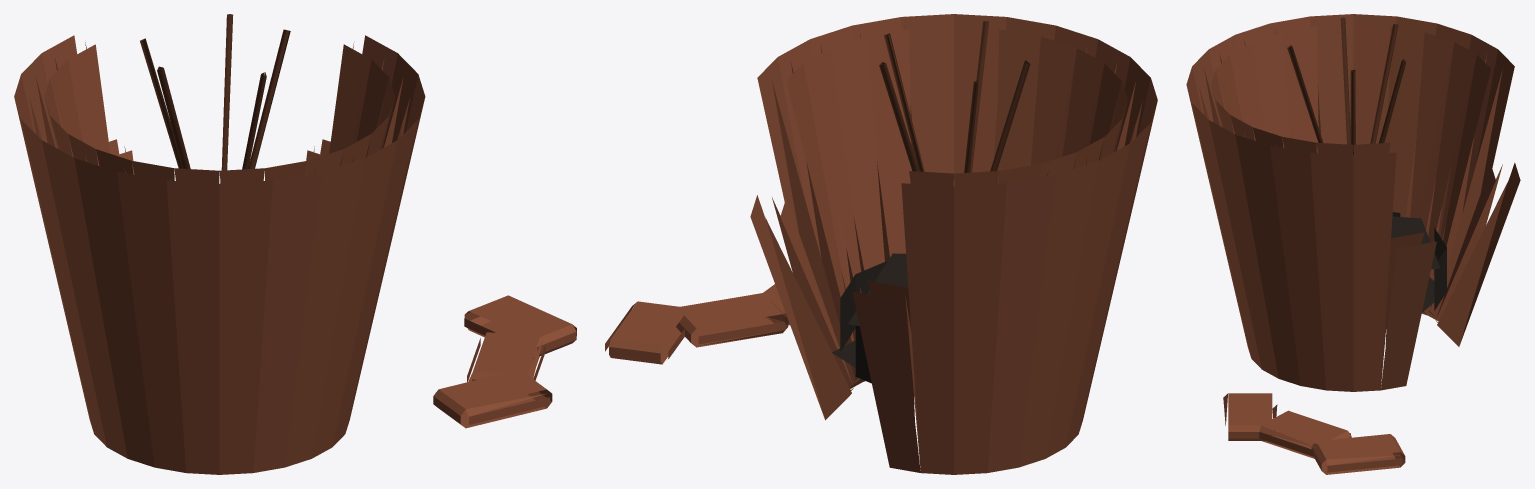
The model's file is BrokenCourtyardPlanter.glb.
3 views of the same model, side by side, from view 1: azimuth 30°, elevation 25°; view 2: azimuth 150°, elevation 25°; view 3: azimuth 270°, elevation 25° (orthographic). The views are drawn at different scales.
Parts seen in each view (by area): view 1: BrokenPotWall.012, BrokenPotWall.011, BrokenPotWall.013, BrokenPotWall.010, BrokenPotWall.009, BrokenPotWall.014, BrokenPotWall.015, BrokenPotWall.008, BrokenPotWall.016, BrokenPotWall.007, FallenTerracottaShard, BrokenPotWall.003 (+14 smaller); view 2: BrokenPotWall.004, BrokenPotWall.003, BrokenPotWall.005, BrokenPotWall.006, BrokenPotWall, BrokenPotWall.018, BrokenPotWall.002, BrokenPotWall.001, BrokenPotWall.007, BrokenPotWall.019, BrokenPotWall.017, BrokenPotWall.016 (+15 smaller); view 3: BrokenPotWall, BrokenPotWall.019, BrokenPotWall.018, BrokenPotWall.017, BrokenPotWall.003, BrokenPotWall.005, BrokenPotWall.004, BrokenPotWall.001, BrokenPotWall.002, BrokenPotWall.016, BrokenPotWall.006, BrokenPotWall.008 (+17 smaller).
Boxes of the visible parts, left/top/right/bottom form: BrokenPotWall.012: left=219, top=168, right=272, bottom=474; BrokenPotWall.011: left=166, top=168, right=219, bottom=474; BrokenPotWall.013: left=253, top=161, right=322, bottom=472; BrokenPotWall.010: left=117, top=161, right=185, bottom=472; BrokenPotWall.009: left=74, top=149, right=154, bottom=467; BrokenPotWall.014: left=285, top=149, right=364, bottom=467; BrokenPotWall.015: left=311, top=134, right=397, bottom=458; BrokenPotWall.008: left=41, top=134, right=127, bottom=458; BrokenPotWall.016: left=332, top=116, right=418, bottom=446; BrokenPotWall.007: left=21, top=116, right=106, bottom=446; FallenTerracottaShard: left=433, top=369, right=552, bottom=428; BrokenPotWall.003: left=41, top=35, right=110, bottom=165; BrokenPotWall.004: left=954, top=171, right=1006, bottom=474; BrokenPotWall.003: left=901, top=171, right=953, bottom=474; BrokenPotWall.005: left=987, top=163, right=1055, bottom=472; BrokenPotWall.006: left=1018, top=152, right=1097, bottom=467; BrokenPotWall: left=757, top=57, right=858, bottom=387; BrokenPotWall.018: left=810, top=25, right=889, bottom=381; BrokenPotWall.002: left=852, top=280, right=920, bottom=472; BrokenPotWall.001: left=750, top=195, right=855, bottom=420; BrokenPotWall.007: left=1045, top=137, right=1130, bottom=458; BrokenPotWall.019: left=777, top=39, right=863, bottom=388; BrokenPotWall.017: left=852, top=17, right=911, bottom=261; BrokenPotWall.016: left=901, top=14, right=953, bottom=185; BrokenPotWall: left=1353, top=142, right=1396, bottom=391; BrokenPotWall.019: left=1310, top=142, right=1353, bottom=391; BrokenPotWall.018: left=1270, top=137, right=1325, bottom=390; BrokenPotWall.017: left=1235, top=127, right=1300, bottom=385; BrokenPotWall.003: left=1427, top=49, right=1514, bottom=318; BrokenPotWall.005: left=1405, top=23, right=1471, bottom=315; BrokenPotWall.004: left=1424, top=35, right=1497, bottom=321; BrokenPotWall.001: left=1381, top=232, right=1436, bottom=390; BrokenPotWall.002: left=1434, top=162, right=1520, bottom=346; BrokenPotWall.016: left=1209, top=115, right=1278, bottom=378; BrokenPotWall.006: left=1385, top=16, right=1436, bottom=217; BrokenPotWall.008: left=1310, top=14, right=1353, bottom=144.
Size of the model in its own units: 1.98 by 1.36 by 1.36.
